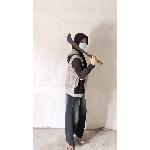Golok: (66, 31, 106, 67)
